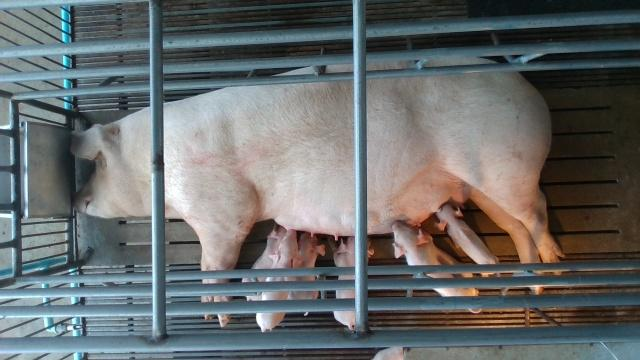piglet: (394, 220, 483, 315), (436, 202, 501, 277), (256, 229, 302, 331), (335, 235, 374, 332), (240, 225, 285, 302), (298, 234, 326, 319)
sow-sleep-lactate: (72, 59, 562, 328)
